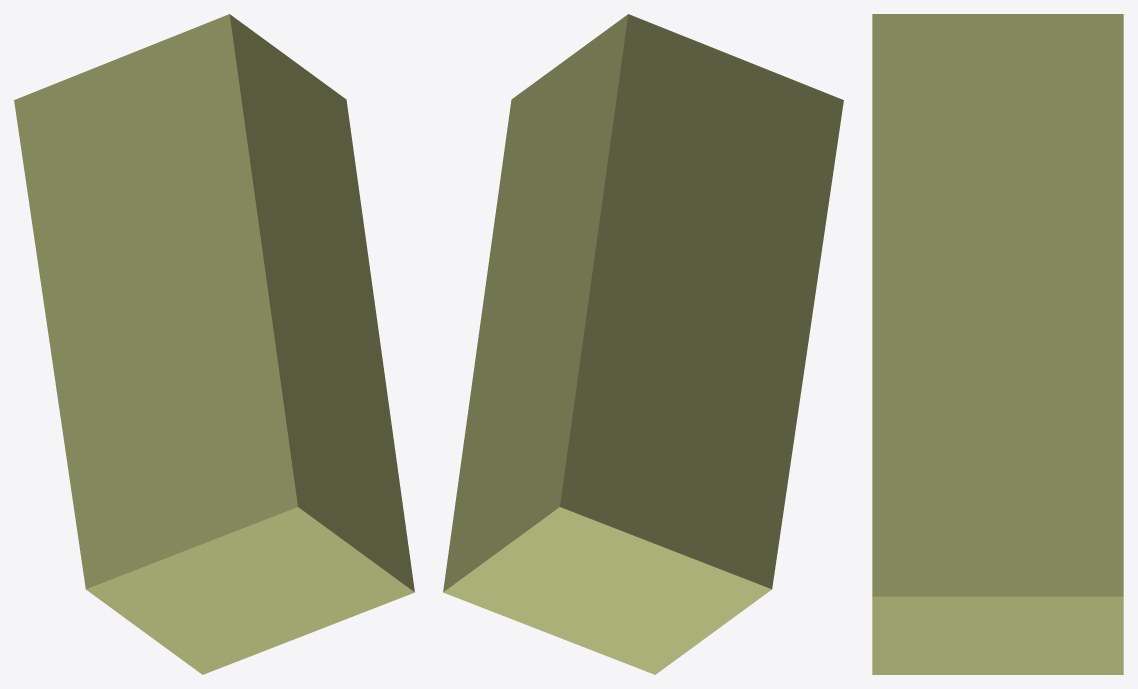
The picture shows the model from 3 angles, left to right: view 1: azimuth 30°, elevation 25°; view 2: azimuth 150°, elevation 25°; view 3: azimuth 270°, elevation 25°; orthographic projection. The views are drawn at different scales.
Parts seen in each view (by area): view 1: 0_1_2_0_0_2_3_3_3_0; view 2: 0_1_2_0_0_2_3_3_3_0; view 3: 0_1_2_0_0_2_3_3_3_0.
Boxes of the visible parts, left/top/right/bottom form: 0_1_2_0_0_2_3_3_3_0: left=14, top=14, right=414, bottom=674; 0_1_2_0_0_2_3_3_3_0: left=443, top=14, right=843, bottom=674; 0_1_2_0_0_2_3_3_3_0: left=872, top=14, right=1123, bottom=674.
Bounding box in the file's own units: 8.42 × 15.3 × 6.
